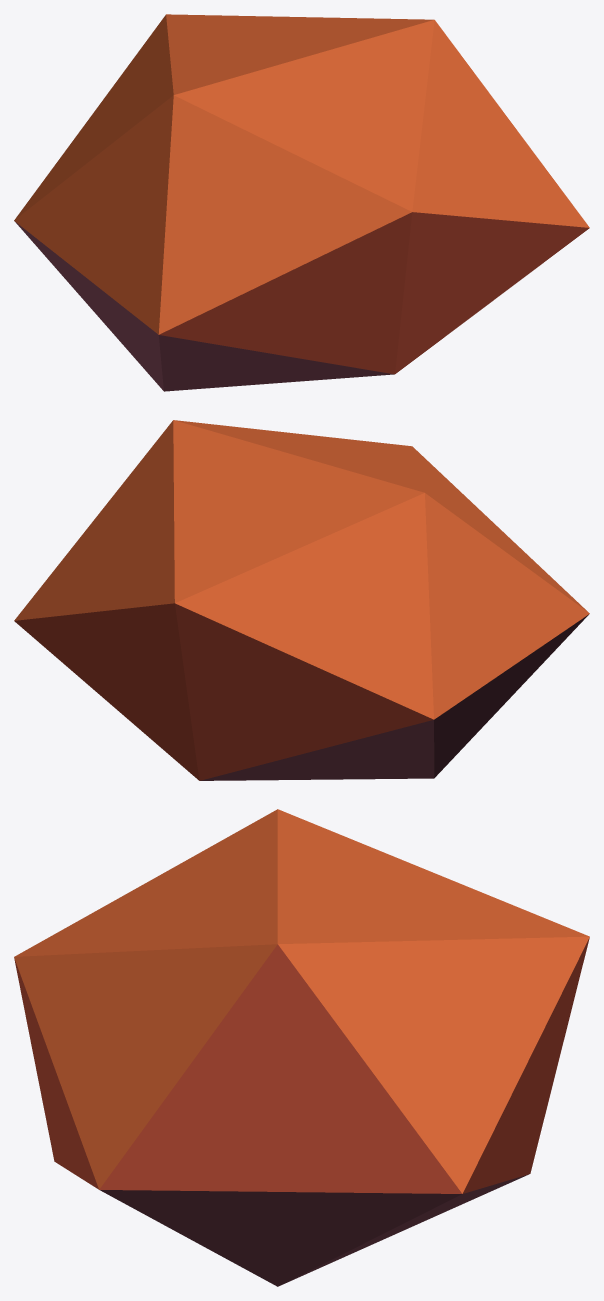
File: Rock_Scatter_B.fbx
The picture shows the model from 3 angles, top to bottom: view 1: azimuth 30°, elevation 25°; view 2: azimuth 150°, elevation 25°; view 3: azimuth 270°, elevation 25°; orthographic projection. The views are drawn at different scales.
Visible parts, largest first — view 1: Rock_Scatter_B; view 2: Rock_Scatter_B; view 3: Rock_Scatter_B.
Part boxes in pixels (<box>): Rock_Scatter_B: <box>14,14,589,391</box>; Rock_Scatter_B: <box>14,420,589,780</box>; Rock_Scatter_B: <box>14,809,589,1286</box>.
Bounding box in the file's own units: 0.3642 × 0.2417 × 0.3529.
